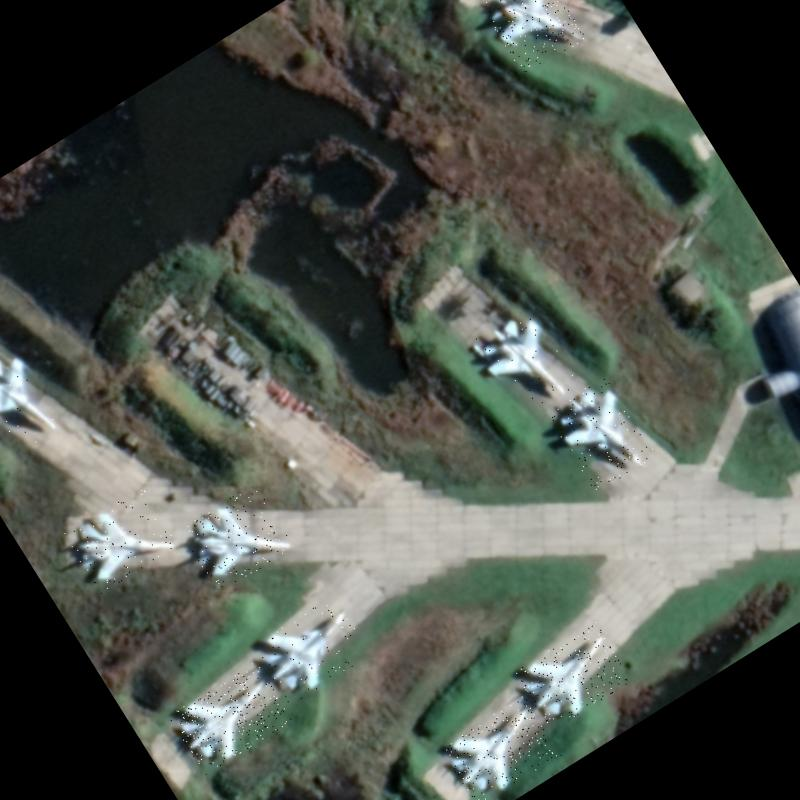A1: (168, 661, 294, 775), (514, 621, 633, 731), (179, 482, 295, 594), (440, 695, 562, 800), (63, 485, 179, 594), (470, 305, 579, 421), (478, 0, 587, 76), (0, 343, 66, 462)
A19: (251, 592, 374, 706), (546, 374, 657, 493)
